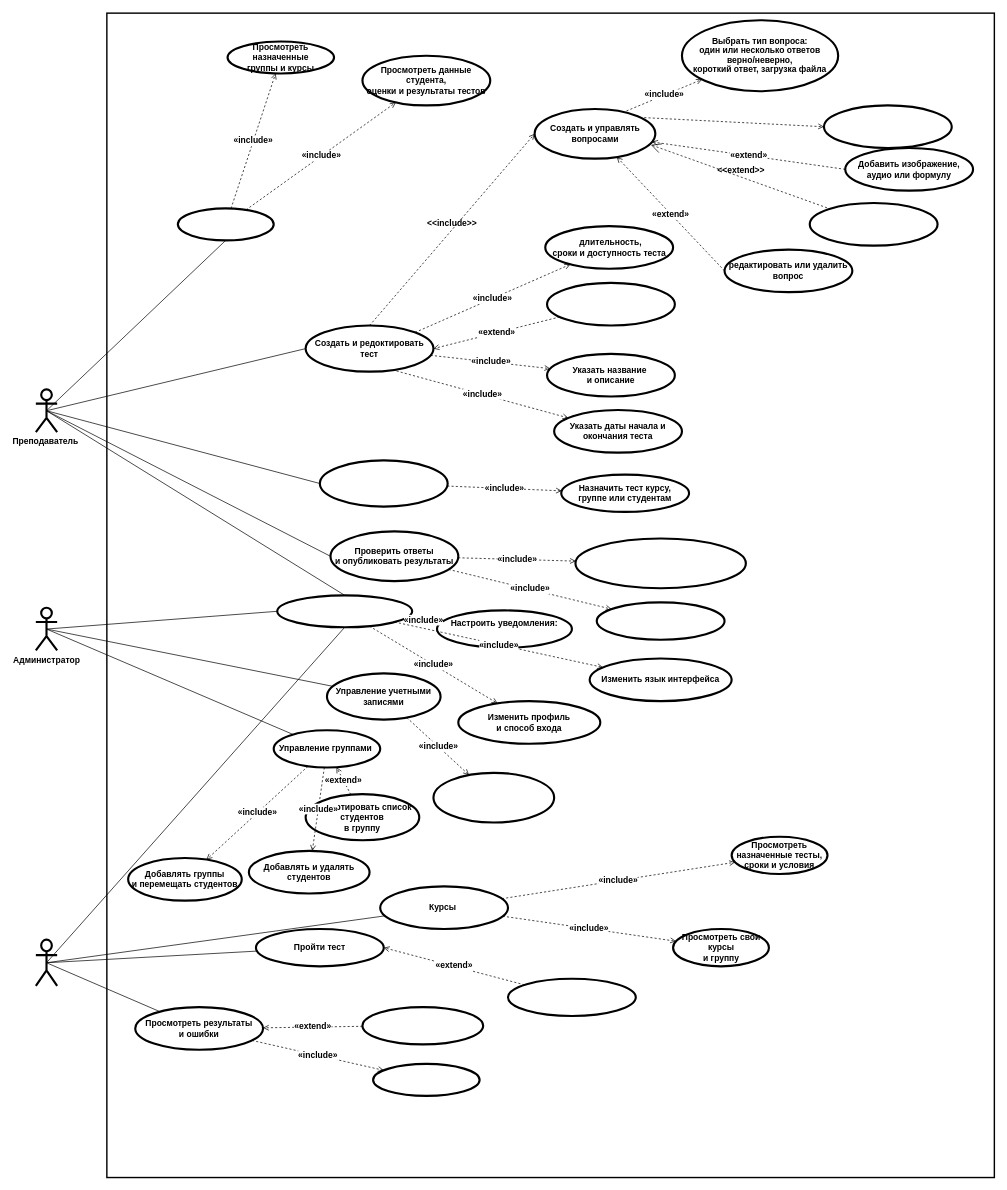
Some shapes in this 1007 by 1190 pixel diagram are drawn without their labels. Each missing label, with the centre of its shape:
Курсы и студенты: the point at 225,224
Настроить авто- или ручную проверку: the point at 611,304
Настроить баллы: the point at 873,224
Опубликовать результаты студентам: the point at 660,620
Отправить результат: the point at 572,997
Просмотреть ответы студентов и проверить автоматические оценки: the point at 660,563
Просмотреть результаты теста: the point at 426,1080
Просмотреть свои ошибки: the point at 422,1025
Профиль и настройки: the point at 344,611
Студент: the point at 46,962
Тест и группы: the point at 383,483
Указать вариант ответа, правильный ответ и баллы: the point at 887,126
Управлять учётными записями и правами доступа: the point at 493,797
